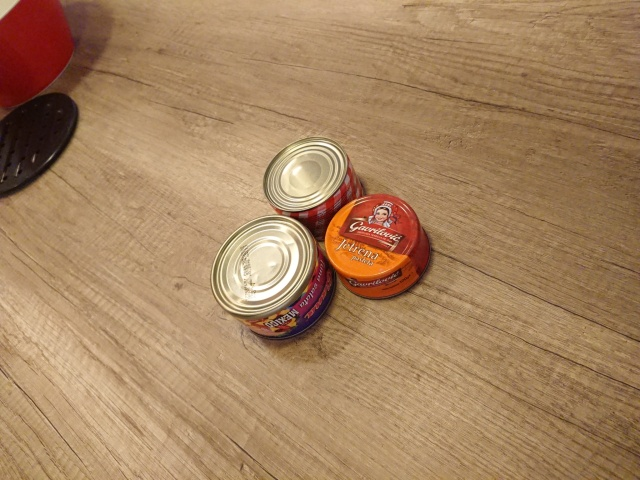Gavrilovic Pork Liver Pate 100g: (323, 190, 433, 303)
Giana Tuna Salad Mexico 185g: (208, 211, 340, 343)
Podravka Luncheon Meat 150g: (260, 134, 370, 245)
